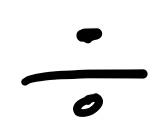div: (19, 28, 146, 118)
